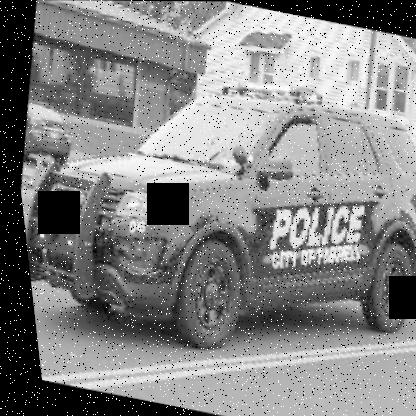emergency: (3, 40, 415, 392)
